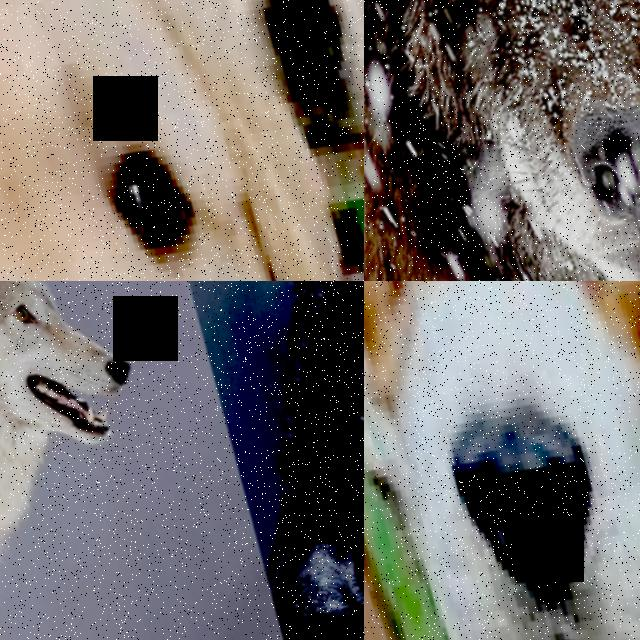dog: (0, 0, 364, 281), (364, 281, 640, 640), (73, 0, 364, 281)
wolf: (78, 281, 364, 640), (364, 0, 640, 281), (0, 281, 197, 611), (0, 281, 106, 640)
